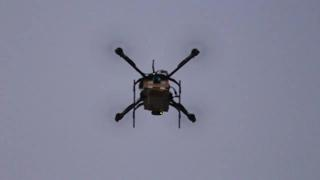UAV: (114, 47, 200, 129)
